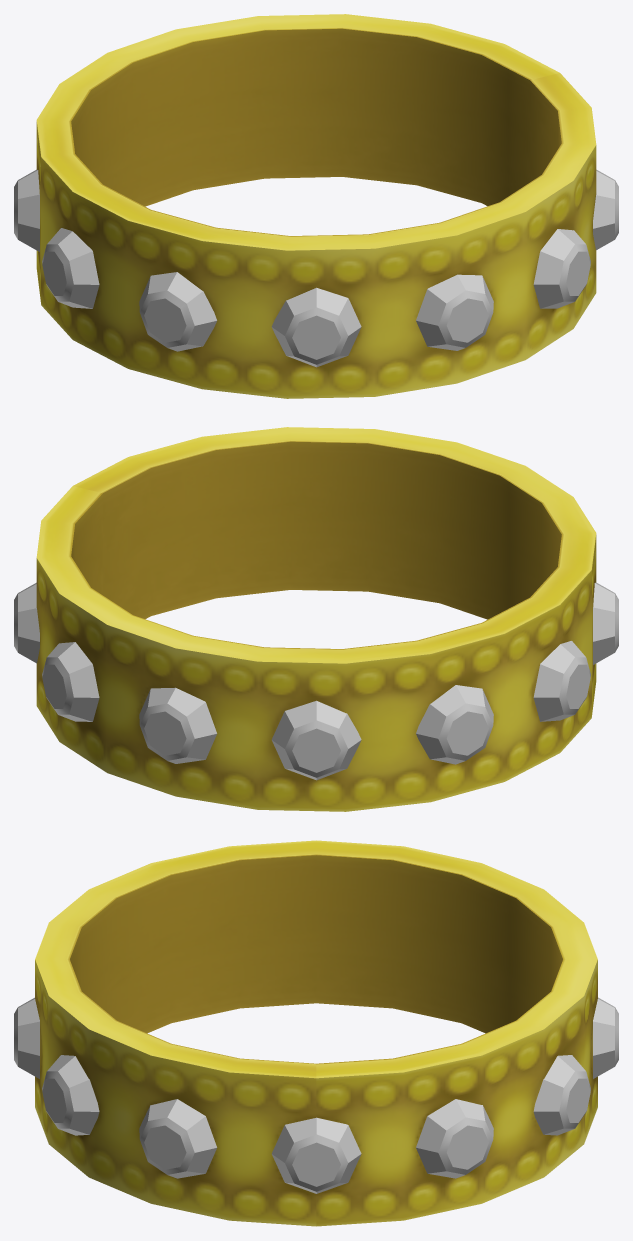
The model's file is ring_gold_04.fbx.
3 views of the same model, one above another, from view 1: azimuth 30°, elevation 25°; view 2: azimuth 150°, elevation 25°; view 3: azimuth 270°, elevation 25° (orthographic).
Visible parts, largest first — view 1: ring_gold_04; view 2: ring_gold_04; view 3: ring_gold_04.
Boxes of the visible parts, bbox=[...] form: ring_gold_04: bbox=[14, 14, 618, 398]; ring_gold_04: bbox=[14, 427, 618, 811]; ring_gold_04: bbox=[14, 840, 618, 1226].
Bounding box in the file's own units: 2.2 × 0.594 × 2.2.
